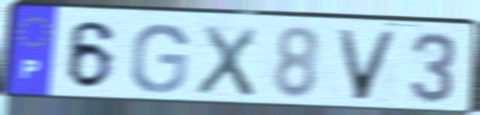3: (407, 29, 461, 108)
6: (62, 19, 118, 93)
8: (271, 24, 324, 103)
G: (127, 21, 192, 95)
V: (333, 27, 403, 104)
X: (192, 22, 259, 100)
